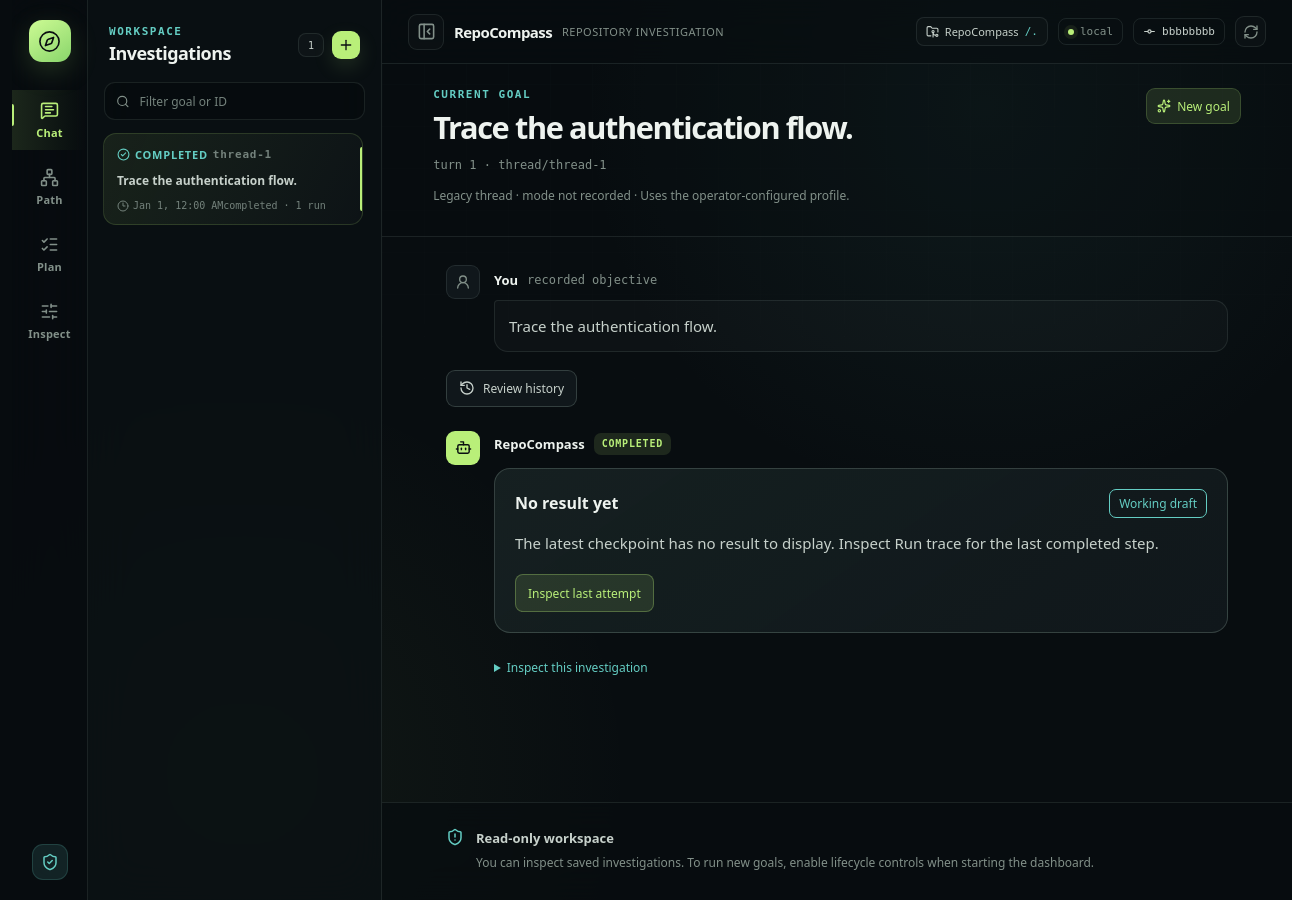
Test: App query shell › lazy-loads observability resources and reuses the cached run across lenses
Expected: the heading "Trace the authentication flow." is shown, [433,108,852,146]
Expected: the button "Memory" is not shown
Click the button "Inspect" at [50, 321], box [12,291,87,351]
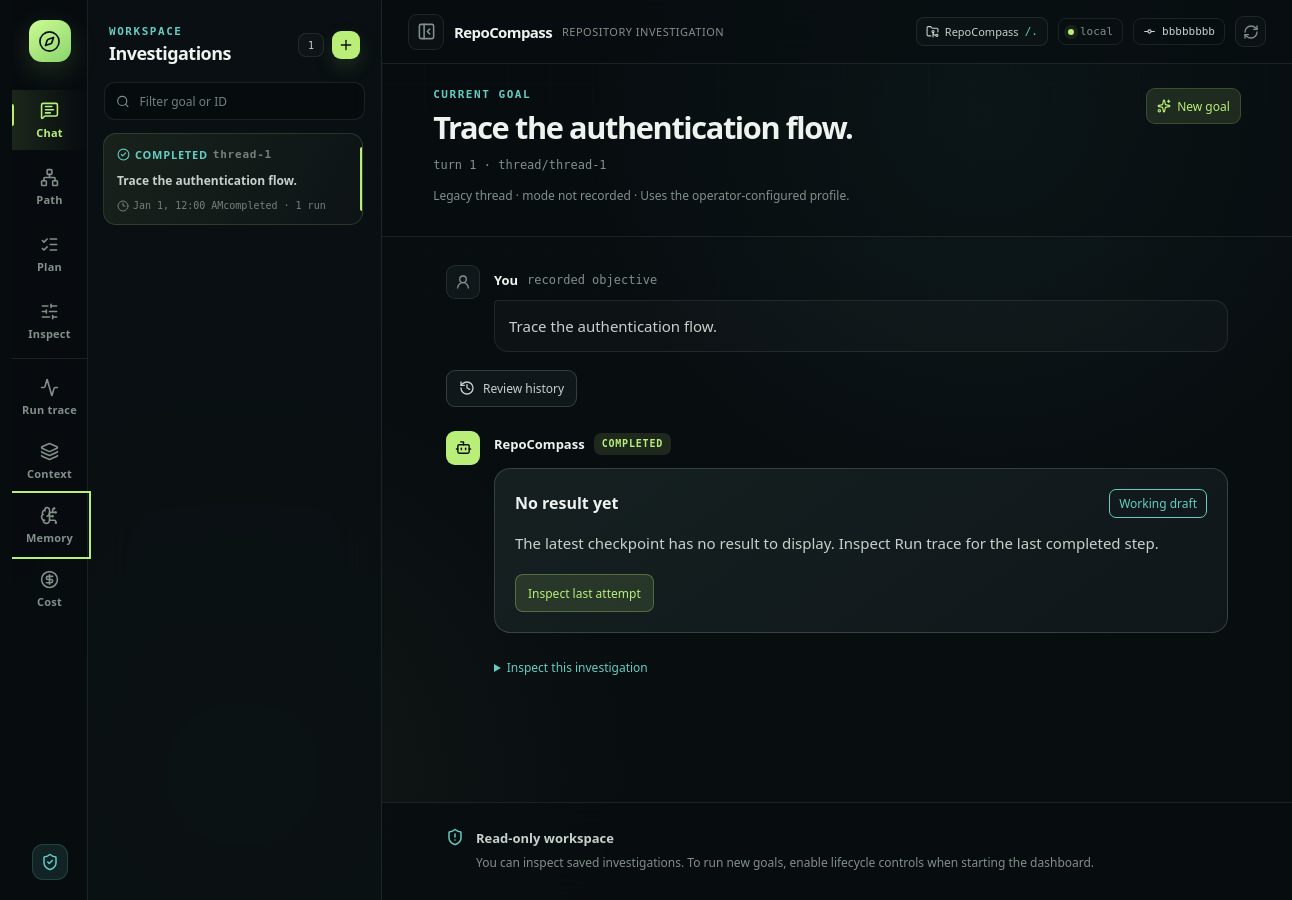
Press Escape in the button "Memory", box [12,495,87,555]
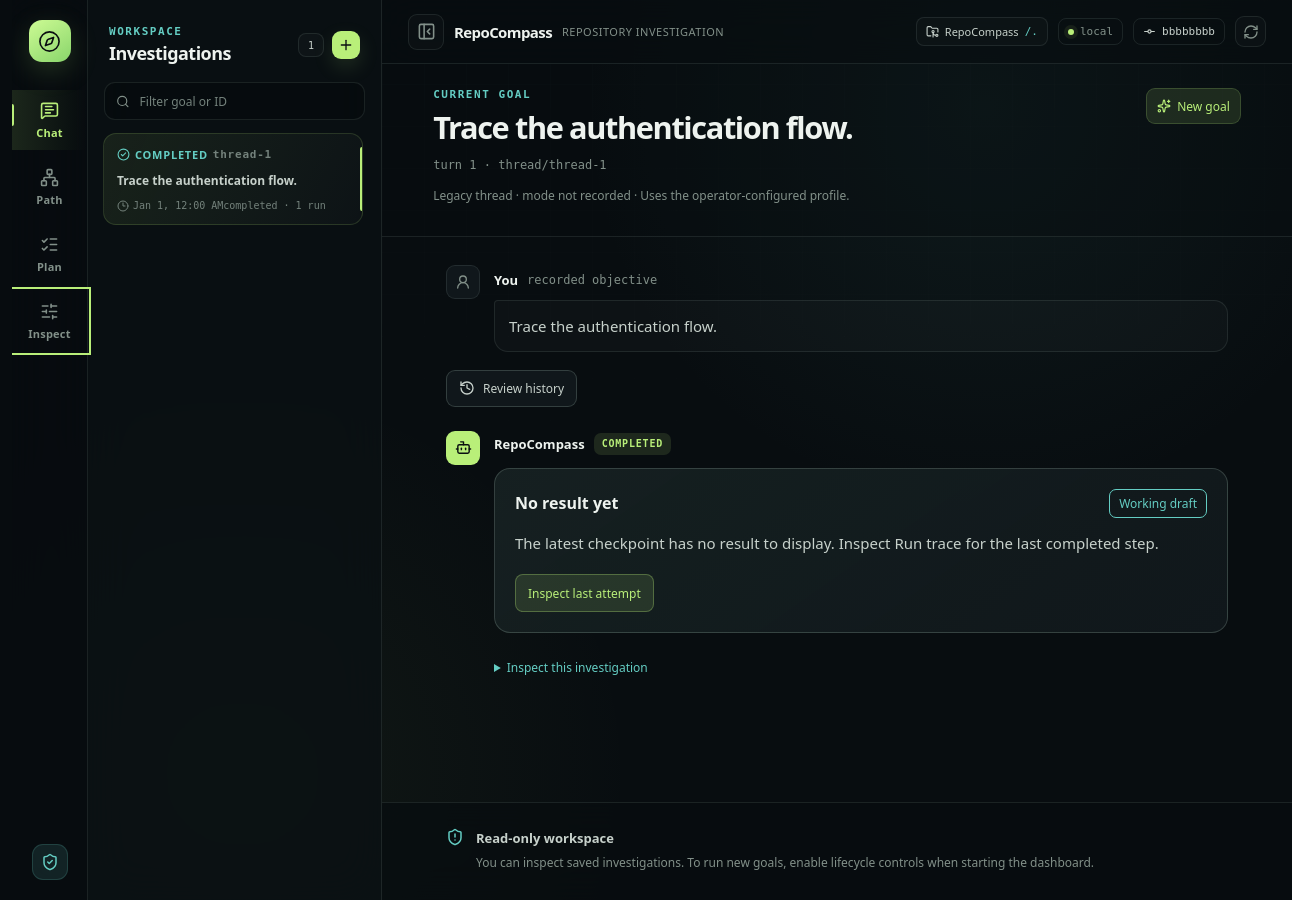
Result: the button "Memory" is gone
Click the button "Inspect" at [50, 321], box [12,291,87,351]
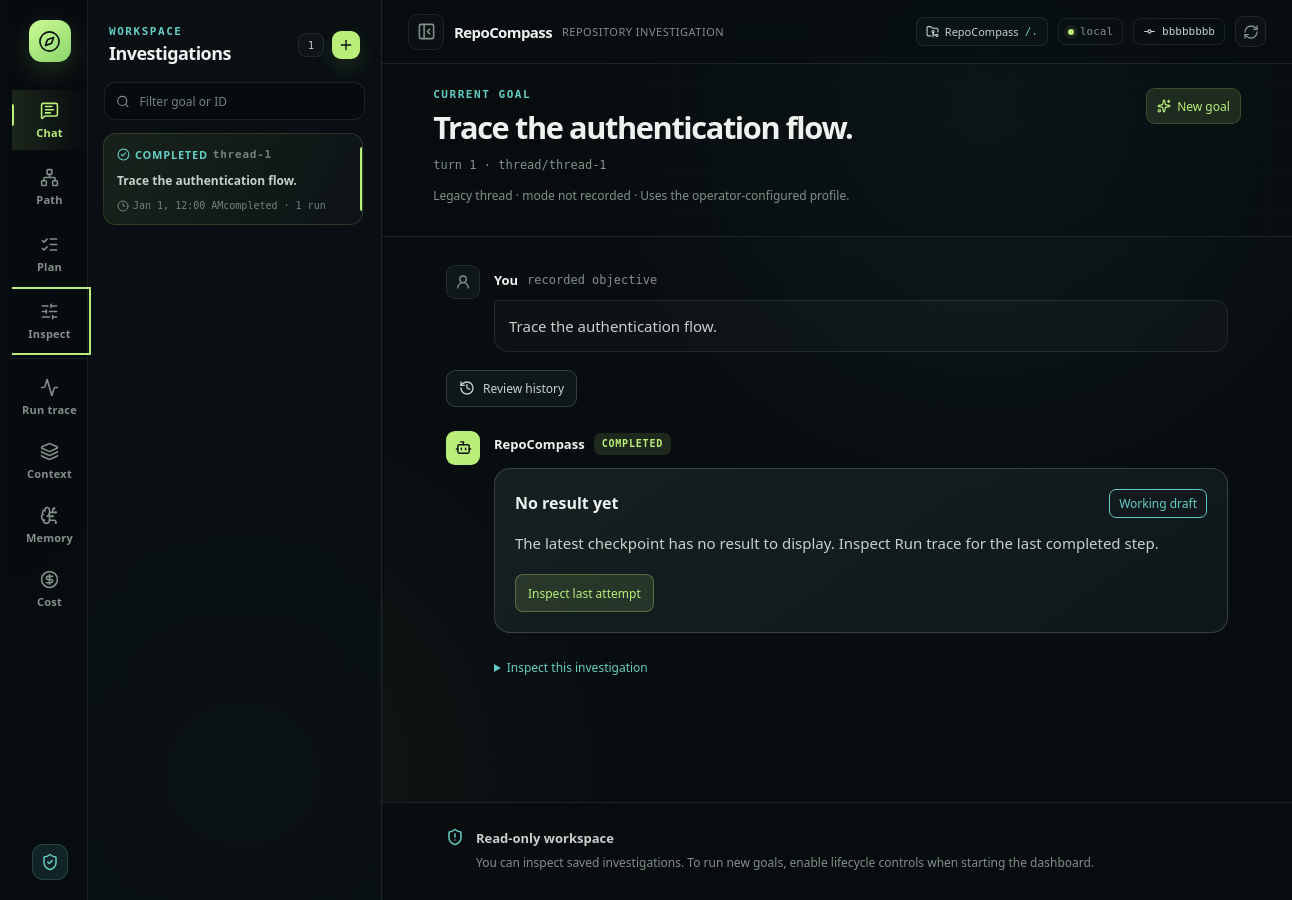
Click the button "Context" at [50, 461], box [12,431,87,491]
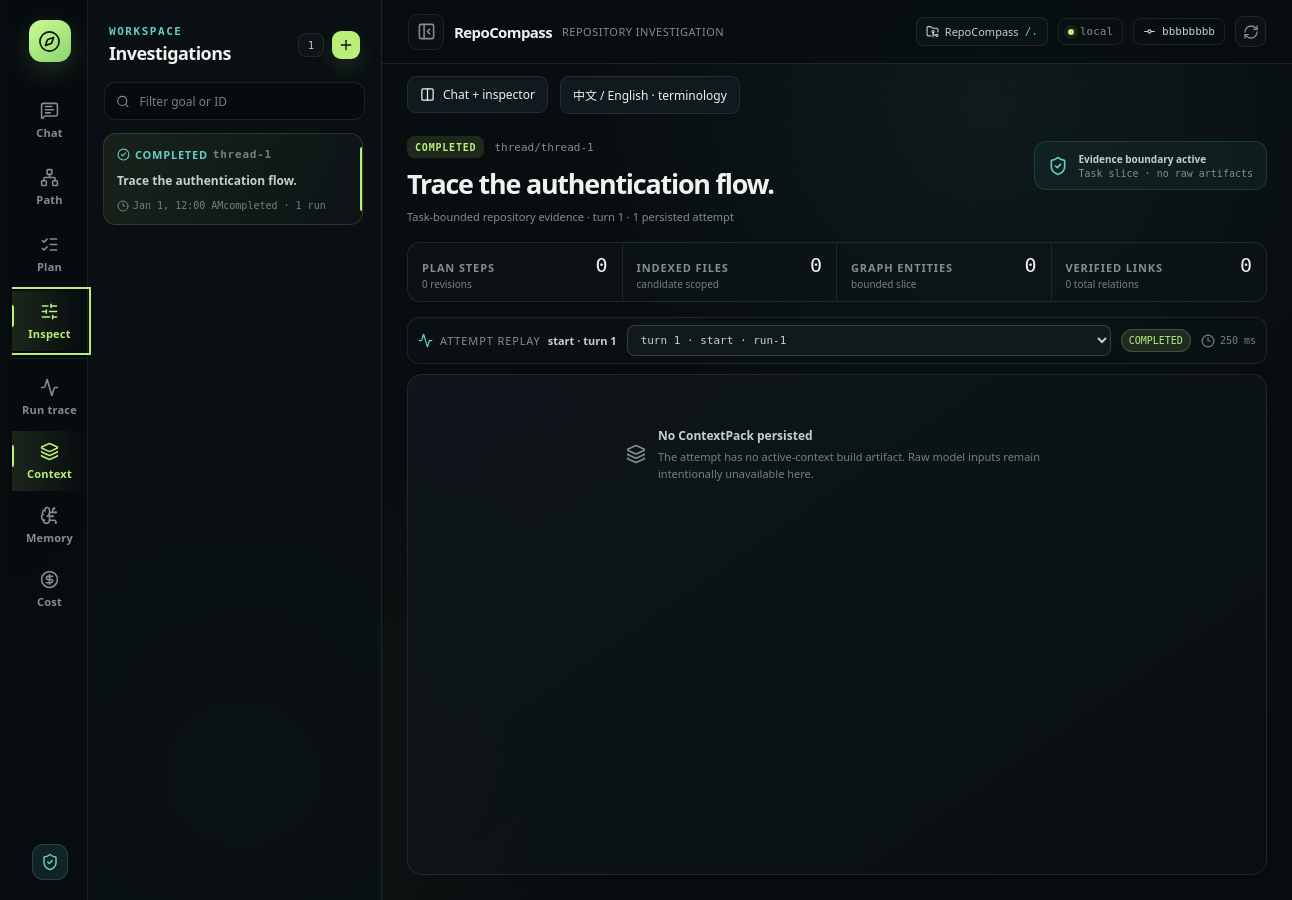
Result: the heading "No ContextPack persisted" is shown at [658,427,813,444]
Click the button "Cost" at [50, 589], box [12,559,87,619]
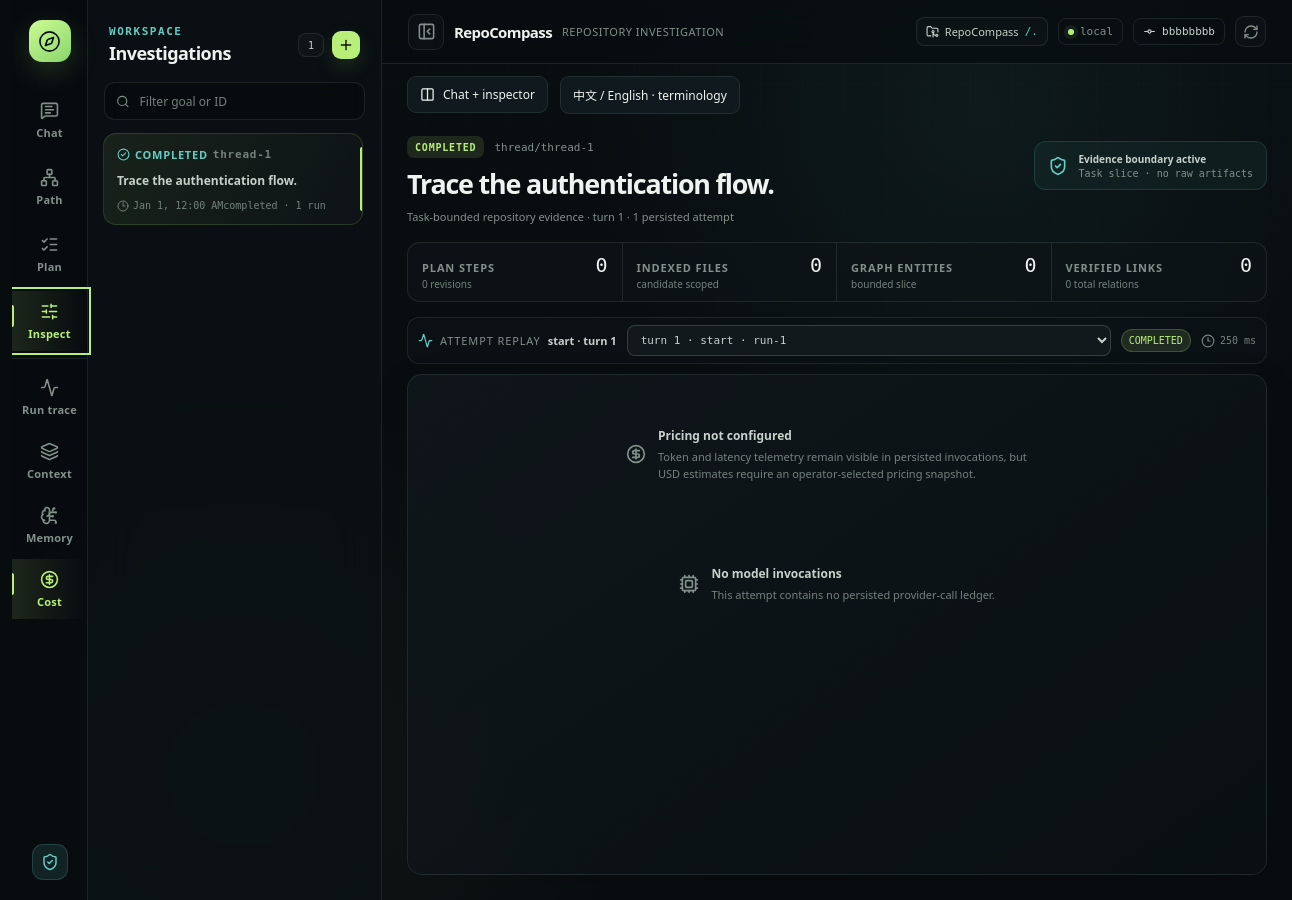
Result: the heading "Pricing not configured" is shown at [658,427,792,444]
Click the button "Memory" at [50, 525], box [12,495,87,555]
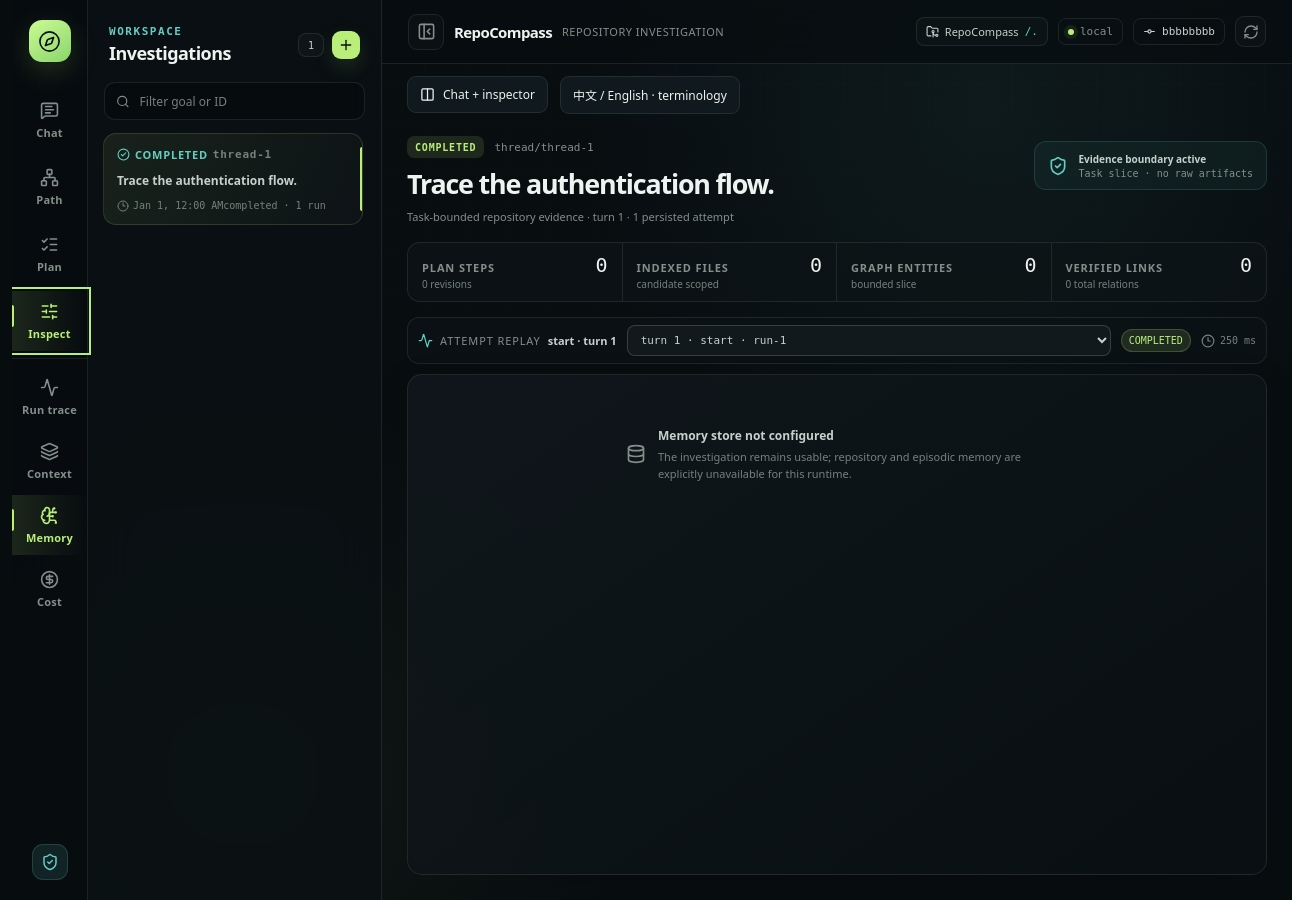
Result: the heading "Memory store not configured" is shown at [658,427,834,444]
